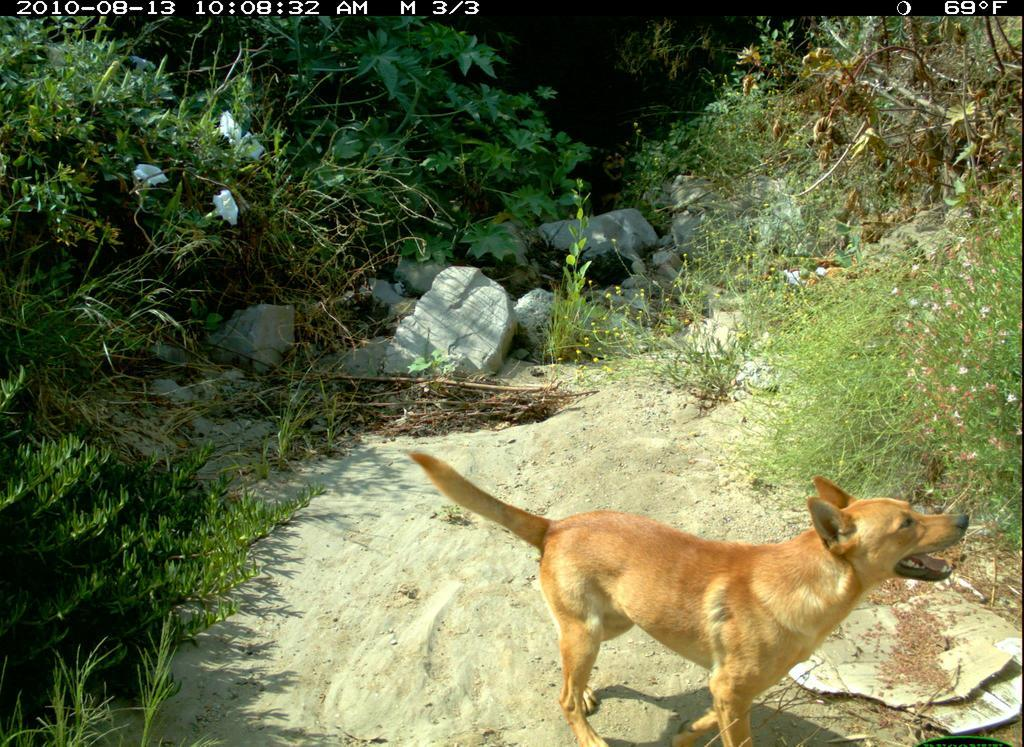dog: (408, 433, 971, 734)
